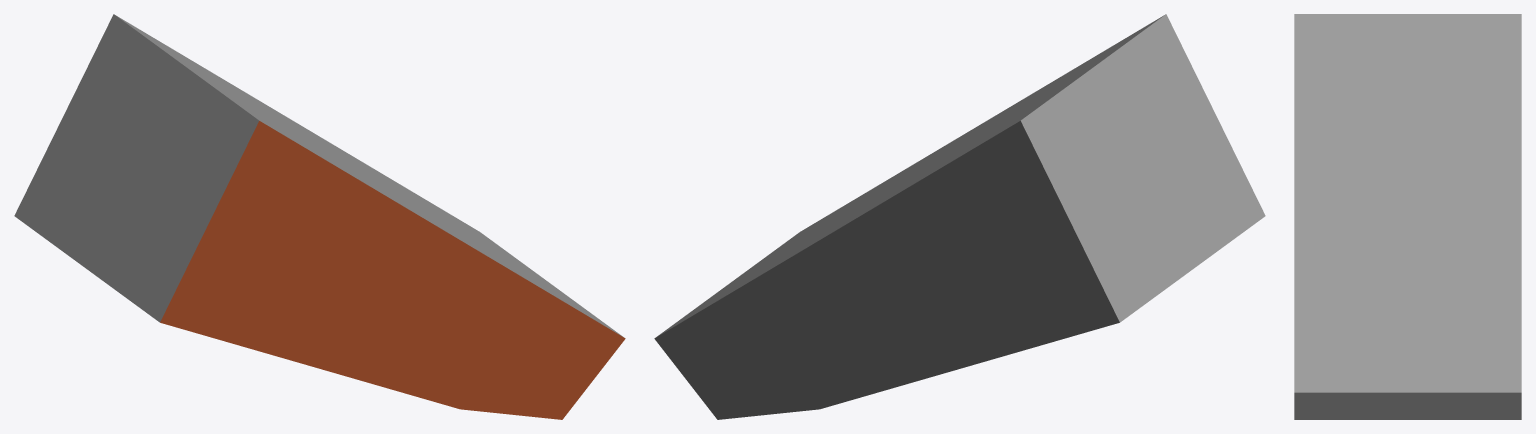
Rendered from construction_5054_assumed_A_Casa_h6m.obj.
3 renders of one model, left to right at view 1: azimuth 30°, elevation 25°; view 2: azimuth 150°, elevation 25°; view 3: azimuth 270°, elevation 25°, orthographic. The views are drawn at different scales.
Parts seen in each view (by area): view 1: construction_5054_assumed_A_Casa; view 2: construction_5054_assumed_A_Casa; view 3: construction_5054_assumed_A_Casa.
Boxes of the visible parts, x1,y1,x2,y2 form: construction_5054_assumed_A_Casa: (14, 14, 625, 419); construction_5054_assumed_A_Casa: (654, 14, 1265, 419); construction_5054_assumed_A_Casa: (1294, 14, 1521, 419).
Size of the model in its own units: 11.07 by 8.48 by 6.
